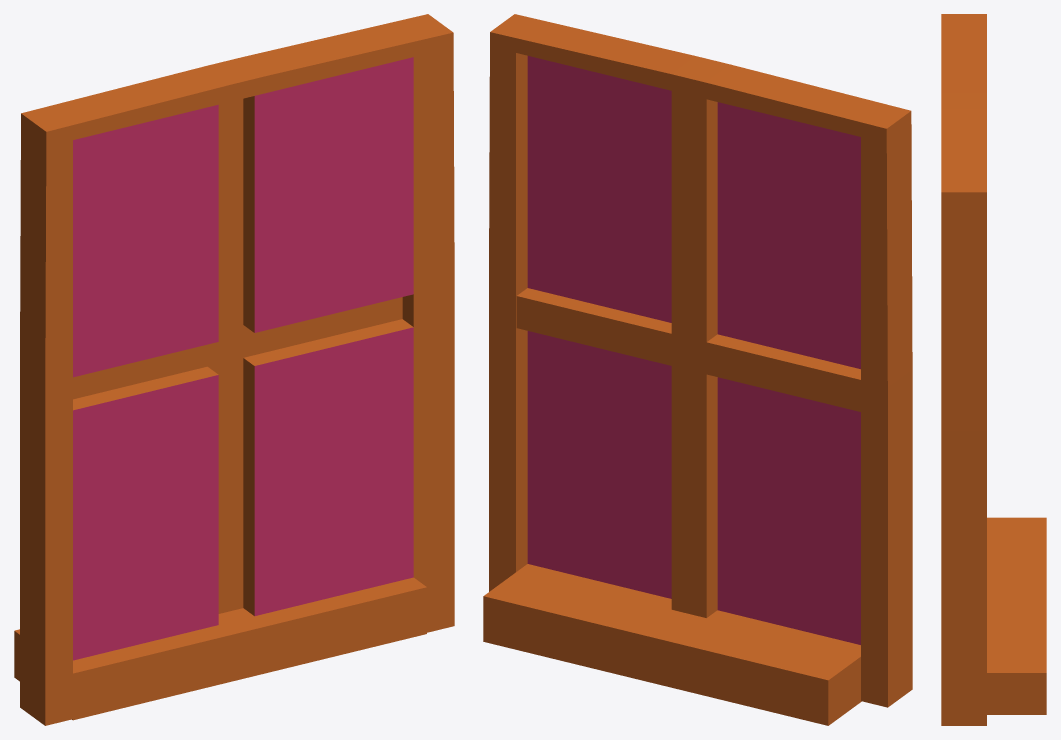
The model's file is Window2.fbx.
3 views of the same model, side by side, from view 1: azimuth 30°, elevation 25°; view 2: azimuth 150°, elevation 25°; view 3: azimuth 270°, elevation 25° (orthographic). The views are drawn at different scales.
Parts seen in each view (by area): view 1: Cube; view 2: Cube; view 3: Cube.
Boxes of the visible parts, left/top/right/bottom form: Cube: left=14, top=14, right=454, bottom=725; Cube: left=483, top=14, right=912, bottom=725; Cube: left=941, top=14, right=1046, bottom=725.
Size of the model in its own units: 7.59 by 1.88 by 10.57.
